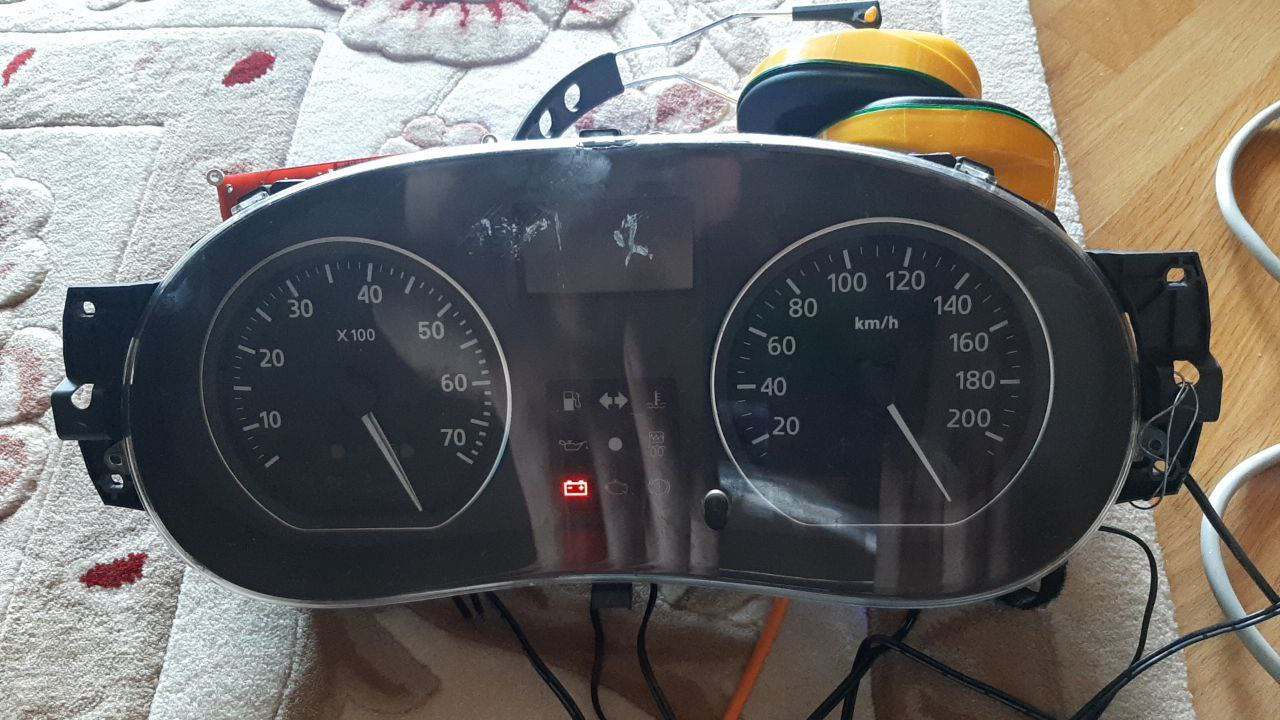accumulator: (561, 472, 591, 503)
